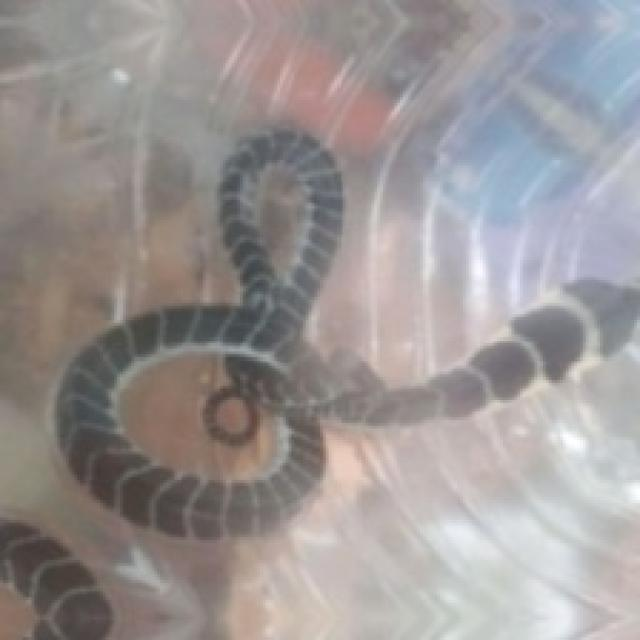king cobra: (54, 131, 637, 537), (0, 523, 109, 637), (100, 546, 229, 637), (437, 577, 609, 637)
